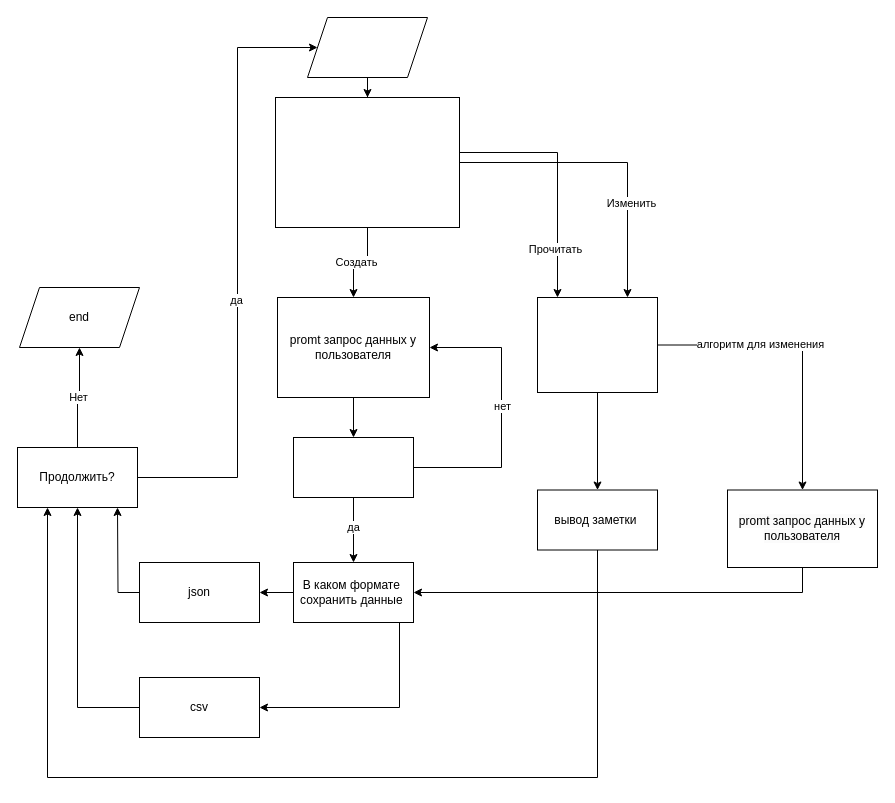
This 895x803 diagram has some shape labels left out. The shapes that lost their labels are listed below. From the top down, each one's centre as x and y in pixels, then its label:
At (367,47): "Старт".
At (367,162): "Меню Создать Прочитать Изменить".
At (597,344): "Запрос заметки по времени/дате/id из репозитория".
At (353,467): "Валидация данных Прошли ли данные валидацию".
